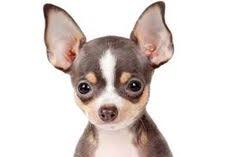chihuahua: (29, 1, 182, 157)
